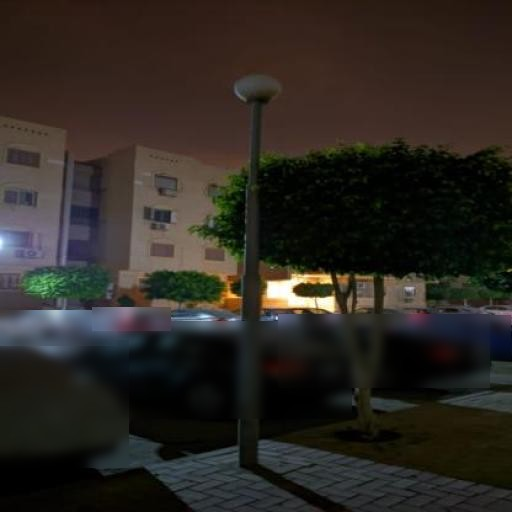apagada: (232, 73, 279, 105)
